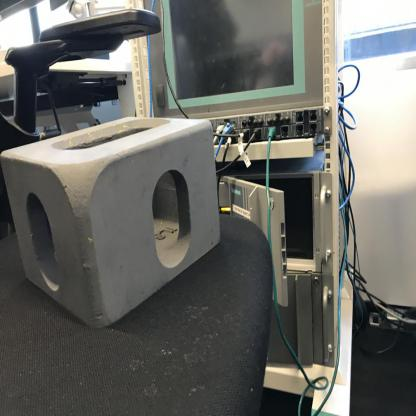CornerCasting: (0, 109, 223, 333)
